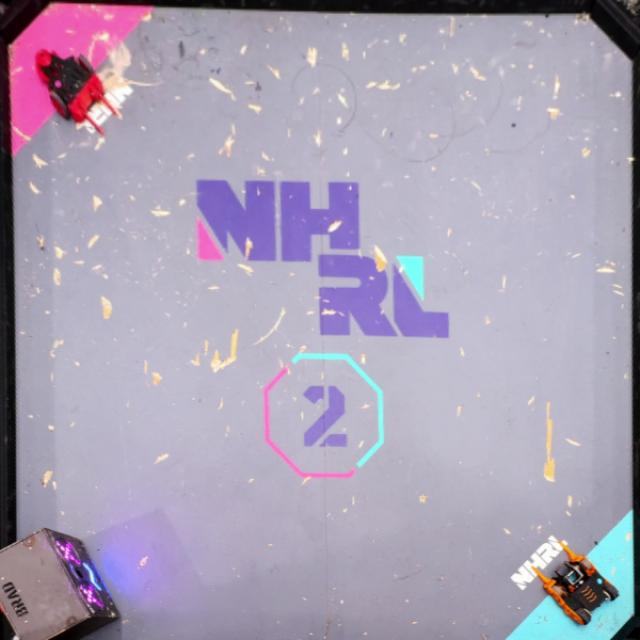housebot: (0, 525, 119, 640)
robot: (34, 43, 125, 140), (528, 538, 622, 629)
